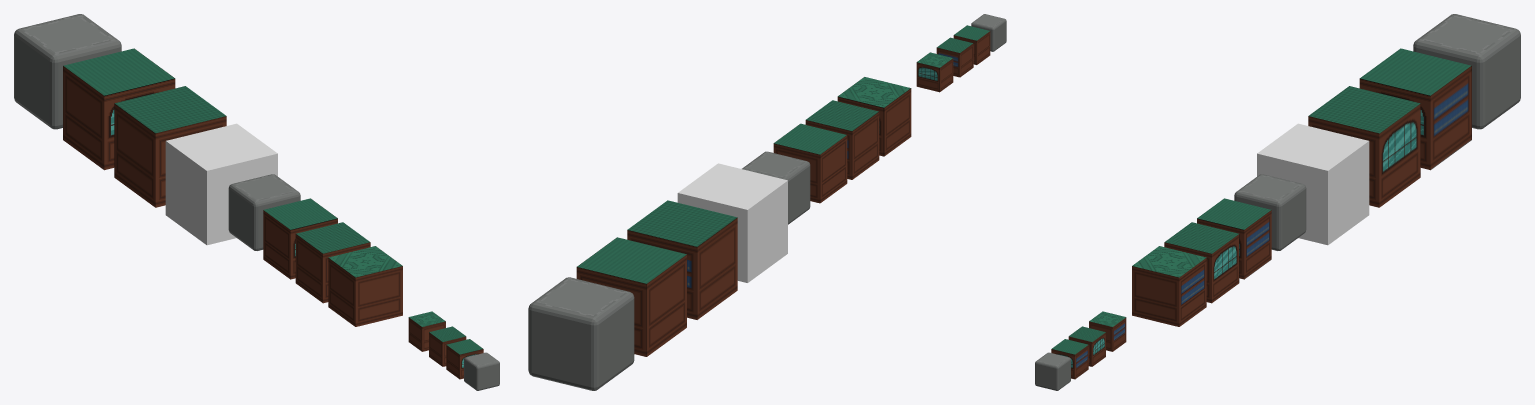
The model's file is New Block Set V2 Different Heights.glb.
3 renders of one model, left to right at view 1: azimuth 30°, elevation 25°; view 2: azimuth 150°, elevation 25°; view 3: azimuth 330°, elevation 25°, orthographic.
Parts seen in each view (by area): view 1: Carpet_Floor_Fancy_X4, Carpet_Floor_Standard_X4, Carpet_Floor_Gingham_X4, Stone_Tile_X4, Carpet_Floor_Fancy-X2, Carpet_Floor_Gingham_X2, Stone_Tile_X2, Carpet_Floor_Standard_X2, Stone_Tile, Carpet_Floor_Fancy, Carpet_Floor_Standard, Carpet_Floor_Gingham; view 2: Stone_Tile_X4, Carpet_Floor_Standard_X4, Carpet_Floor_Fancy_X4, Carpet_Floor_Gingham_X4, Carpet_Floor_Standard_X2, Carpet_Floor_Fancy-X2, Carpet_Floor_Gingham_X2, Stone_Tile_X2, Carpet_Floor_Fancy, Carpet_Floor_Gingham, Carpet_Floor_Standard, Stone_Tile; view 3: Carpet_Floor_Fancy_X4, Carpet_Floor_Standard_X4, Carpet_Floor_Gingham_X4, Stone_Tile_X4, Carpet_Floor_Fancy-X2, Carpet_Floor_Gingham_X2, Stone_Tile_X2, Carpet_Floor_Standard_X2, Stone_Tile, Carpet_Floor_Fancy, Carpet_Floor_Standard, Carpet_Floor_Gingham.
Part boxes in pixels (box(x1,y1,x2,y2)): Carpet_Floor_Fancy_X4: box(165, 123, 277, 245); Carpet_Floor_Standard_X4: box(63, 48, 175, 170); Carpet_Floor_Gingham_X4: box(114, 86, 226, 207); Stone_Tile_X4: box(14, 14, 121, 129); Carpet_Floor_Fancy-X2: box(328, 246, 402, 326); Carpet_Floor_Gingham_X2: box(295, 222, 370, 303); Stone_Tile_X2: box(228, 174, 300, 250); Carpet_Floor_Standard_X2: box(263, 198, 337, 279); Stone_Tile: box(464, 352, 499, 390); Carpet_Floor_Fancy: box(408, 311, 445, 351); Carpet_Floor_Standard: box(446, 339, 483, 379); Carpet_Floor_Gingham: box(429, 326, 466, 366); Stone_Tile_X4: box(528, 277, 634, 390); Carpet_Floor_Standard_X4: box(576, 237, 686, 356); Carpet_Floor_Fancy_X4: box(677, 163, 787, 282); Carpet_Floor_Gingham_X4: box(627, 200, 737, 319); Carpet_Floor_Standard_X2: box(773, 123, 847, 203); Carpet_Floor_Fancy-X2: box(837, 77, 911, 156); Carpet_Floor_Gingham_X2: box(805, 100, 879, 179); Stone_Tile_X2: box(742, 151, 810, 224); Carpet_Floor_Fancy: box(916, 52, 953, 92); Carpet_Floor_Gingham: box(936, 37, 973, 77); Carpet_Floor_Standard: box(953, 25, 990, 64); Stone_Tile: box(971, 14, 1006, 51); Carpet_Floor_Fancy_X4: box(1257, 123, 1369, 245); Carpet_Floor_Standard_X4: box(1359, 48, 1471, 170); Carpet_Floor_Gingham_X4: box(1308, 86, 1420, 207); Stone_Tile_X4: box(1413, 14, 1520, 129); Carpet_Floor_Fancy-X2: box(1132, 246, 1206, 326); Carpet_Floor_Gingham_X2: box(1164, 222, 1239, 303); Stone_Tile_X2: box(1234, 174, 1306, 250); Carpet_Floor_Standard_X2: box(1197, 198, 1271, 279); Stone_Tile: box(1035, 352, 1070, 390); Carpet_Floor_Fancy: box(1089, 311, 1126, 351); Carpet_Floor_Standard: box(1051, 339, 1088, 379); Carpet_Floor_Gingham: box(1068, 326, 1105, 366).
Size of what is drawn, in the model's own units: 24 by 24 by 258.
Materials: 15 (12 with a texture image).
